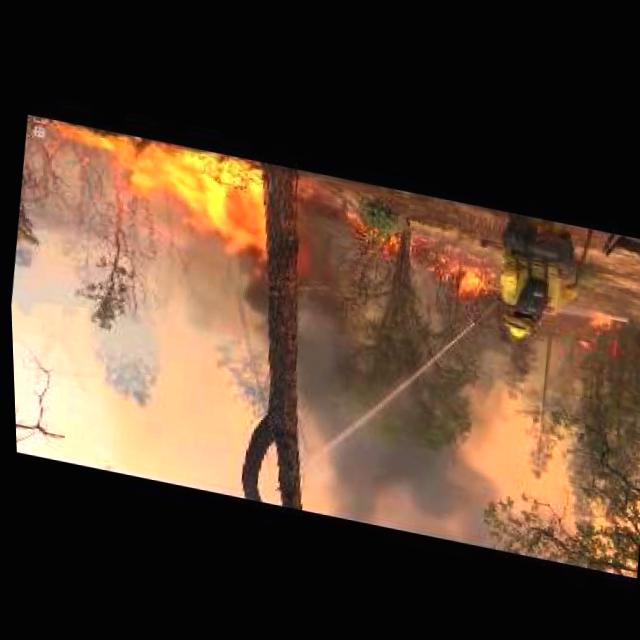Fire: (39, 124, 280, 266), (410, 245, 500, 303), (568, 293, 629, 356), (581, 295, 618, 334), (576, 333, 589, 345)
Smoke: (271, 237, 518, 537), (7, 226, 260, 488)
